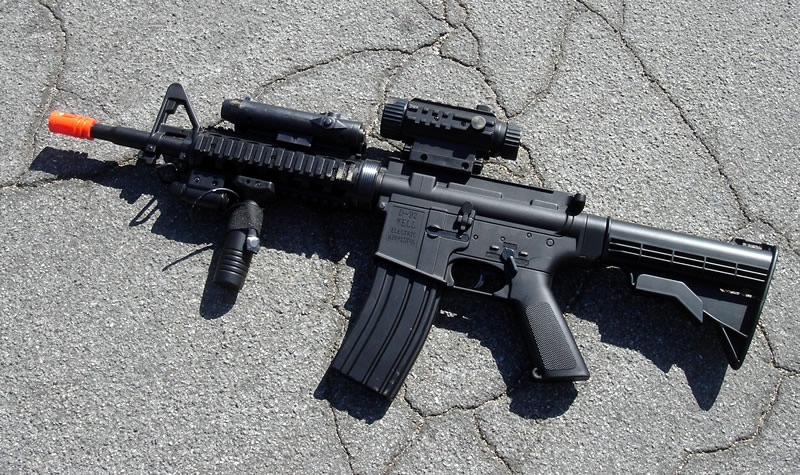rifle: (66, 81, 775, 417)
